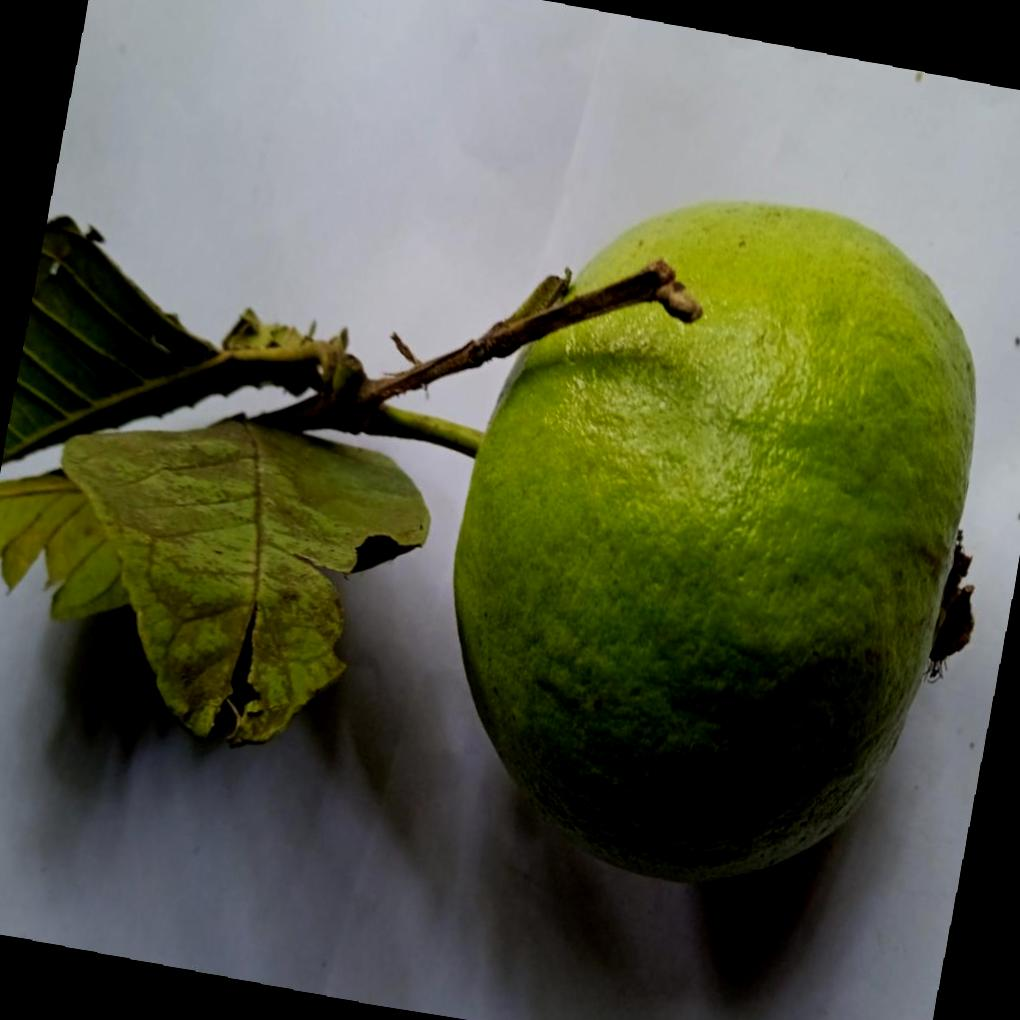FreshGuava: (449, 201, 977, 891)
